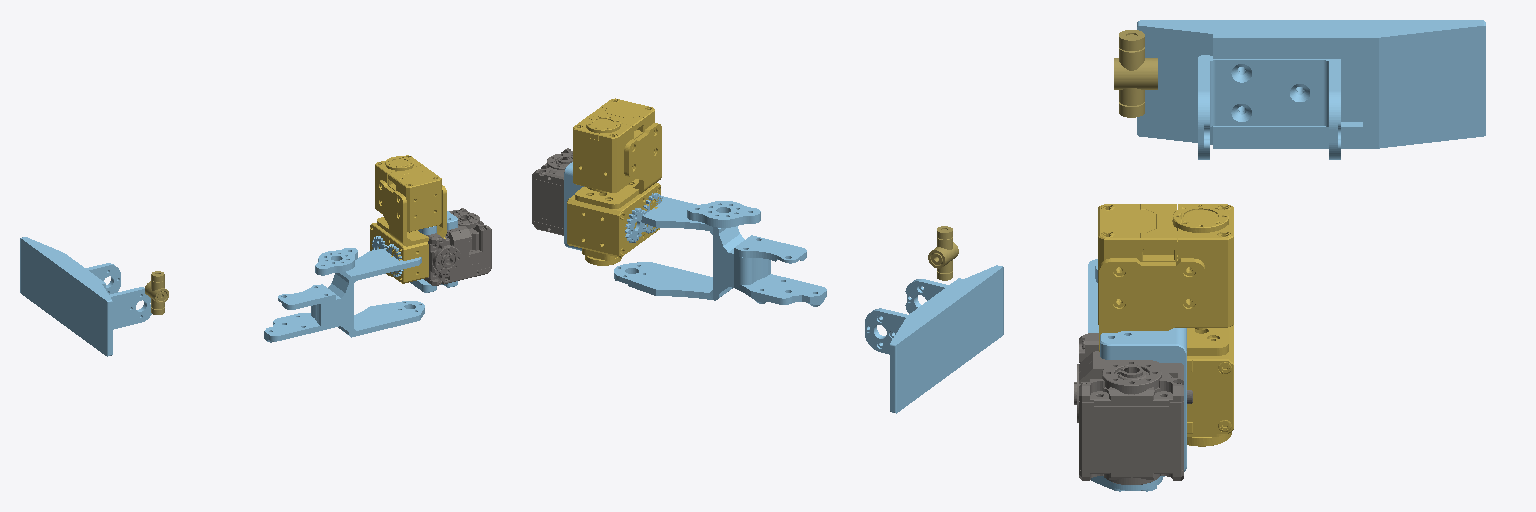
robot.urdf — left_leg_active:
<?xml version="1.0" ?>
<robot name="left_leg_active">
  <link name="2xc430">
    <visual>
      <origin xyz="0 0 0" rpy="0 -0 0"/>
      <geometry>
        <mesh filename="package:///meshes/left_2xc430_visual.stl"/>
      </geometry>
      <material name="2xc430_material">
        <color rgba="0.51698661238356047321 0.50347815951093488618 0.49050589017722012741 1.0"/>
      </material>
    </visual>
    <collision>
      <origin xyz="0 0 0" rpy="0 -0 0"/>
      <geometry>
        <mesh filename="package:///meshes/left_2xc430_collision.stl"/>
      </geometry>
    </collision>
    <inertial>
      <origin xyz="-0.0120001511339564923 0.00049588831385626367092 0.01850401924450319896" rpy="0 0 0"/>
      <mass value="0.11059999999836234164"/>
      <inertia ixx="2.2818802599017385101e-05" ixy="4.6888548258345894655e-08" ixz="4.6520143289217505514e-08" iyy="3.0871666424467696587e-05" iyz="-5.7477343899723834052e-07" izz="3.0871632082336744173e-05"/>
    </inertial>
  </link>

  <link name="hip_yaw_link">
    <visual>
      <origin xyz="0 0 0" rpy="0 -0 0"/>
      <geometry>
        <mesh filename="package:///meshes/left_hip_yaw_link_visual.stl"/>
      </geometry>
      <material name="hip_yaw_link_material">
        <color rgba="0.61568627450980395466 0.81176470588235294379 0.92941176470588238168 1.0"/>
      </material>
    </visual>
    <collision>
      <origin xyz="0 0 0" rpy="0 -0 0"/>
      <geometry>
        <mesh filename="package:///meshes/left_hip_yaw_link_collision.stl"/>
      </geometry>
    </collision>
    <inertial>
      <origin xyz="7.9056415076153557052e-19 -0.015800610849654277146 -0.019005670096647751116" rpy="0 0 0"/>
      <mass value="0.013199999999999992989"/>
      <inertia ixx="5.789461597517412337e-06" ixy="-1.7415088674758894312e-36" ixz="1.2832779283935135522e-36" iyy="5.0110144042848776317e-06" iyz="1.1826010760651176287e-09" izz="2.7344876354814331659e-06"/>
    </inertial>
  </link>

  <link name="spur_gear_21_teeth">
    <visual>
      <origin xyz="0 0 0" rpy="0 -0 0"/>
      <geometry>
        <mesh filename="package:///meshes/left_spur_gear_21_teeth_visual.stl"/>
      </geometry>
      <material name="spur_gear_21_teeth_material">
        <color rgba="0.61568627450980395466 0.81176470588235294379 0.9294117647058824927 1.0"/>
      </material>
    </visual>
    <collision>
      <origin xyz="0 0 0" rpy="0 -0 0"/>
      <geometry>
        <mesh filename="package:///meshes/left_spur_gear_21_teeth_collision.stl"/>
      </geometry>
    </collision>
    <inertial>
      <origin xyz="-4.5505289335411606329e-11 -1.6782163661890817574e-11 -0.00249241020062506086" rpy="0 0 0"/>
      <mass value="0.0022000000000000001325"/>
      <inertia ixx="7.0162310059594196881e-08" ixy="-1.7296344820489596811e-39" ixz="-2.6465015955880150586e-39" iyy="7.016231005804746178e-08" iyz="4.706443675885446204e-39" izz="1.3125544198538289306e-07"/>
    </inertial>
  </link>

  <link name="left_hip_pitch_link">
    <visual>
      <origin xyz="0 0 0" rpy="0 -0 0"/>
      <geometry>
        <mesh filename="package:///meshes/left_hip_pitch_link_visual.stl"/>
      </geometry>
      <material name="left_hip_pitch_link_material">
        <color rgba="0.80773802221328794282 0.71541030077254164077 0.35058406659986895981 1.0"/>
      </material>
    </visual>
    <collision>
      <origin xyz="0 0 0" rpy="0 -0 0"/>
      <geometry>
        <mesh filename="package:///meshes/left_hip_pitch_link_collision.stl"/>
      </geometry>
    </collision>
    <inertial>
      <origin xyz="-0.0099310748247876320938 -0.0055733268638736314579 0.039014117054800595552" rpy="0 0 0"/>
      <mass value="0.14895408167669133004"/>
      <inertia ixx="7.3955327919483632962e-05" ixy="-1.1805488631452789334e-06" ixz="-8.060325155229058482e-06" iyy="8.8995102919696593489e-05" iyz="1.1275669888575771416e-06" izz="4.2292269256454298725e-05"/>
    </inertial>
  </link>

  <link name="spur_gear_18_teeth">
    <visual>
      <origin xyz="0 0 0" rpy="0 -0 0"/>
      <geometry>
        <mesh filename="package:///meshes/left_spur_gear_18_teeth_visual.stl"/>
      </geometry>
      <material name="spur_gear_18_teeth_material">
        <color rgba="0.61568627450980395466 0.81176470588235294379 0.92941176470588238168 1.0"/>
      </material>
    </visual>
    <collision>
      <origin xyz="0 0 0" rpy="0 -0 0"/>
      <geometry>
        <mesh filename="package:///meshes/left_spur_gear_18_teeth_collision.stl"/>
      </geometry>
    </collision>
    <inertial>
      <origin xyz="-7.7513419666719815872e-14 -3.6849749222242637987e-13 0.0017500000000010135486" rpy="0 0 0"/>
      <mass value="0.0011999999999999998949"/>
      <inertia ixx="2.9367899810799927978e-08" ixy="7.0237994118966961071e-19" ixz="-9.093083600898419224e-36" iyy="2.9367899814659469999e-08" iyz="-6.7496912845597021962e-37" izz="5.6306346207859581581e-08"/>
    </inertial>
  </link>

  <joint name="left_hip_yaw_drive" type="fixed">
    <origin xyz="-0.019199999999993326572 0.00020000000000297904479 -3.3591185388814892576e-14" rpy="-3.1415926535896656624 -5.0119741105083928872e-13 4.8264601989417384549e-13"/>
    <parent link="left_hip_pitch_link"/>
    <child link="spur_gear_18_teeth"/>
    <axis xyz="0 0 1"/>
    <limit effort="1" velocity="20"/>
    <joint_properties friction="0.0"/>
  </joint>

  <link name="left_calf_link">
    <visual>
      <origin xyz="0 0 0" rpy="0 -0 0"/>
      <geometry>
        <mesh filename="package:///meshes/left_calf_link_visual.stl"/>
      </geometry>
      <material name="left_calf_link_material">
        <color rgba="0.61568627450980395466 0.81176470588235294379 0.92941176470588238168 1.0"/>
      </material>
    </visual>
    <collision>
      <origin xyz="0 0 0" rpy="0 -0 0"/>
      <geometry>
        <mesh filename="package:///meshes/left_calf_link_collision.stl"/>
      </geometry>
    </collision>
    <inertial>
      <origin xyz="-0.0043450054391248786947 0.040752982165250771496 0.0087116093515534967495" rpy="0 0 0"/>
      <mass value="0.030999999999999992839"/>
      <inertia ixx="3.3069388685112569883e-05" ixy="-1.3783307153201298896e-06" ixz="-1.2742534026334006212e-07" iyy="7.7316525337315854217e-06" iyz="-7.335650059386048945e-08" izz="2.8031377753987751284e-05"/>
    </inertial>
  </link>

  <link name="left_ank_pitch_link">
    <visual>
      <origin xyz="0 0 0" rpy="0 -0 0"/>
      <geometry>
        <mesh filename="package:///meshes/left_ank_pitch_link_visual.stl"/>
      </geometry>
      <material name="left_ank_pitch_link_material">
        <color rgba="0.70321688500203349825 0.64514870846184457776 0.40484735422826251261 1.0"/>
      </material>
    </visual>
    <collision>
      <origin xyz="0 0 0" rpy="0 -0 0"/>
      <geometry>
        <mesh filename="package:///meshes/left_ank_pitch_link_collision.stl"/>
      </geometry>
    </collision>
    <inertial>
      <origin xyz="0.017770241891401236667 0.012301334508572112081 0.018813528244421784397" rpy="0 0 0"/>
      <mass value="0.1767637669506791076"/>
      <inertia ixx="4.7283316680251528594e-05" ixy="-1.3380598598440066277e-06" ixz="-5.5304058905152607314e-07" iyy="0.00010706456048089248178" iyz="-5.3225137839470791761e-08" izz="0.00012185522397136386665"/>
    </inertial>
  </link>

  <link name="ank_roll_link">
    <visual>
      <origin xyz="0 0 0" rpy="0 -0 0"/>
      <geometry>
        <mesh filename="package:///meshes/left_ank_roll_link_visual.stl"/>
      </geometry>
      <material name="ank_roll_link_material">
        <color rgba="0.61568627450980384364 0.81176470588235283277 0.92941176470588227065 1.0"/>
      </material>
    </visual>
    <collision>
      <origin xyz="0 0 0" rpy="0 -0 0"/>
      <geometry>
        <mesh filename="package:///meshes/left_ank_roll_link_collision.stl"/>
      </geometry>
    </collision>
    <inertial>
      <origin xyz="-0.027003066516822049614 -2.0057346566329234726e-12 0.033764011359896449471" rpy="0 0 0"/>
      <mass value="0.042600000000000012856"/>
      <inertia ixx="3.7284397827464321284e-05" ixy="-5.5171856782523619006e-16" ixz="2.3929183768080488394e-06" iyy="3.7589276943350537956e-05" iyz="5.0934855332653714243e-12" izz="1.0090430906786831852e-05"/>
    </inertial>
  </link>

  <joint name="left_ank_roll" type="revolute">
    <origin xyz="0.022749999999985538734 -7.882583474838611437e-15 0.01900000000000061362" rpy="-1.5707963267949487385 -4.2119656378063955504e-14 1.5707963267951472464"/>
    <parent link="left_ank_pitch_link"/>
    <child link="ank_roll_link"/>
    <axis xyz="0 0 1"/>
    <limit effort="1" velocity="20" lower="-1.570796326794896558" upper="1.570796326794896558"/>
    <joint_properties friction="0.0"/>
  </joint>

  <joint name="left_ank_pitch" type="revolute">
    <origin xyz="-1.9512606733250257952e-15 0.10000000000000036637 0.02775000000000000383" rpy="-3.141592653589793116 3.5087959447744686916e-16 2.3008038058414658775e-14"/>
    <parent link="left_calf_link"/>
    <child link="left_ank_pitch_link"/>
    <axis xyz="0 0 1"/>
    <limit effort="1" velocity="20" lower="-1.7453292519943295336" upper="0.785398163397448279"/>
    <joint_properties friction="0.0"/>
  </joint>

  <joint name="left_knee" type="revolute">
    <origin xyz="-2.8613480456167939715e-17 -0.0087499999999999158312 0.085949999999999998623" rpy="1.57079632679489678 3.591571484825329779e-14 3.141592653589793116"/>
    <parent link="left_hip_pitch_link"/>
    <child link="left_calf_link"/>
    <axis xyz="0 0 1"/>
    <limit effort="1" velocity="20" lower="-2.0943951023931952626" upper="0"/>
    <joint_properties friction="0.0"/>
  </joint>

  <link name="xm430_plate">
    <visual>
      <origin xyz="0 0 0" rpy="0 -0 0"/>
      <geometry>
        <mesh filename="package:///meshes/left_xm430_plate_visual.stl"/>
      </geometry>
      <material name="xm430_plate_material">
        <color rgba="0.61568627450980395466 0.81176470588235294379 0.92941176470588227065 1.0"/>
      </material>
    </visual>
    <collision>
      <origin xyz="0 0 0" rpy="0 -0 0"/>
      <geometry>
        <mesh filename="package:///meshes/left_xm430_plate_collision.stl"/>
      </geometry>
    </collision>
    <inertial>
      <origin xyz="-1.2470677117592975908e-17 -2.603989803260703764e-18 0.0025278513919583817798" rpy="0 0 0"/>
      <mass value="0.0026999999999999997093"/>
      <inertia ixx="1.2887178787151824688e-07" ixy="5.8739562556303580066e-08" ixz="1.3747001931663957437e-36" iyy="2.4635091298412528789e-07" iyz="1.2591564783620003869e-36" izz="3.6467998413810316538e-07"/>
    </inertial>
  </link>

  <joint name="left_knee_act" type="fixed">
    <origin xyz="2.549465851207057319e-18 0.012450000000000006201 0.044499999999999990952" rpy="-1.570796326794896558 1.570796326794896558 0"/>
    <parent link="left_hip_pitch_link"/>
    <child link="xm430_plate"/>
    <axis xyz="0 0 1"/>
    <limit effort="1" velocity="20"/>
    <joint_properties friction="0.0"/>
  </joint>

  <joint name="left_hip_yaw" type="revolute">
    <origin xyz="3.3476830706536645795e-18 3.4694469519536141888e-18 -0.0049999999999999905631" rpy="-3.141592653589793116 -9.9920072216846031328e-16 -6.2516448472107216595e-14"/>
    <parent link="spur_gear_21_teeth"/>
    <child link="left_hip_pitch_link"/>
    <axis xyz="0 0 1"/>
    <limit effort="1" velocity="20" lower="-1.570796326794896558" upper="1.570796326794896558"/>
    <joint_properties friction="0.0"/>
  </joint>

  <joint name="left_hip_yaw_fixed" type="fixed">
    <origin xyz="0 -0.028000000000000004052 -0.018999999999999999528" rpy="-1.5707963267948932273 1.5707963267948956698 0"/>
    <parent link="hip_yaw_link"/>
    <child link="spur_gear_21_teeth"/>
    <axis xyz="0 0 1"/>
    <limit effort="1" velocity="20"/>
    <joint_properties friction="0.0"/>
  </joint>

  <joint name="left_hip_roll" type="revolute">
    <origin xyz="-0.024000000716139682777 0.019000000152448071056 0.019000000152447796969" rpy="-1.57079632679489678 -1.5707963267948943376 0"/>
    <parent link="2xc430"/>
    <child link="hip_yaw_link"/>
    <axis xyz="0 0 1"/>
    <limit effort="1" velocity="20" lower="-0.785398163397448279" upper="0.785398163397448279"/>
    <joint_properties friction="0.0"/>
  </joint>


</robot>

--- What the picture shows (computed from the rendered views, not written in the file) ---
3 views of the same robot in one strip: view 1: azimuth 30°, elevation 25°; view 2: azimuth 150°, elevation 25°; view 3: azimuth 270°, elevation 25° (orthographic).
Robot: left_leg_active — 9 links, 8 joints (5 revolute, 3 fixed); root link 2xc430; default pose: every joint at zero.
Links seen in each view (by area): view 1: ank_roll_link, left_calf_link, left_hip_pitch_link, 2xc430, xm430_plate, left_ank_pitch_link, hip_yaw_link; view 2: left_hip_pitch_link, ank_roll_link, left_calf_link, 2xc430, xm430_plate, left_ank_pitch_link, hip_yaw_link; view 3: ank_roll_link, left_hip_pitch_link, 2xc430, hip_yaw_link, left_ank_pitch_link, left_calf_link.
Link boxes in pixels (x1=…): ank_roll_link: x1=20, y1=237, x2=151, y2=356; left_calf_link: x1=264, y1=249, x2=424, y2=342; left_hip_pitch_link: x1=370, y1=155, x2=446, y2=283; 2xc430: x1=424, y1=208, x2=491, y2=285; xm430_plate: x1=315, y1=248, x2=357, y2=275; left_ank_pitch_link: x1=145, y1=271, x2=168, y2=314; hip_yaw_link: x1=410, y1=211, x2=457, y2=292; left_hip_pitch_link: x1=567, y1=98, x2=661, y2=265; ank_roll_link: x1=865, y1=265, x2=1003, y2=413; left_calf_link: x1=614, y1=196, x2=826, y2=306; 2xc430: x1=532, y1=148, x2=572, y2=235; xm430_plate: x1=687, y1=201, x2=760, y2=227; left_ank_pitch_link: x1=928, y1=226, x2=958, y2=280; hip_yaw_link: x1=564, y1=162, x2=583, y2=250; ank_roll_link: x1=1137, y1=20, x2=1485, y2=159; left_hip_pitch_link: x1=1098, y1=204, x2=1233, y2=446; 2xc430: x1=1074, y1=333, x2=1192, y2=484; hip_yaw_link: x1=1100, y1=328, x2=1186, y2=471; left_ank_pitch_link: x1=1114, y1=30, x2=1157, y2=117; left_calf_link: x1=1088, y1=259, x2=1164, y2=491.
Size in the robot's own frame: 0.2932 by 0.1417 by 0.1029 metres.
Meshes: 9 distinct files referenced, 9 mesh visuals loaded (9 binary STL).